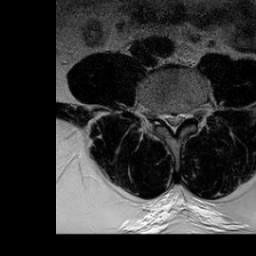CCS_normal: (170, 103, 178, 141)
LFS_normal: (186, 100, 194, 126)
LLS_normal: (178, 101, 186, 131)
RFS_stenosis: (153, 101, 162, 127)
RLS_normal: (162, 105, 170, 132)
